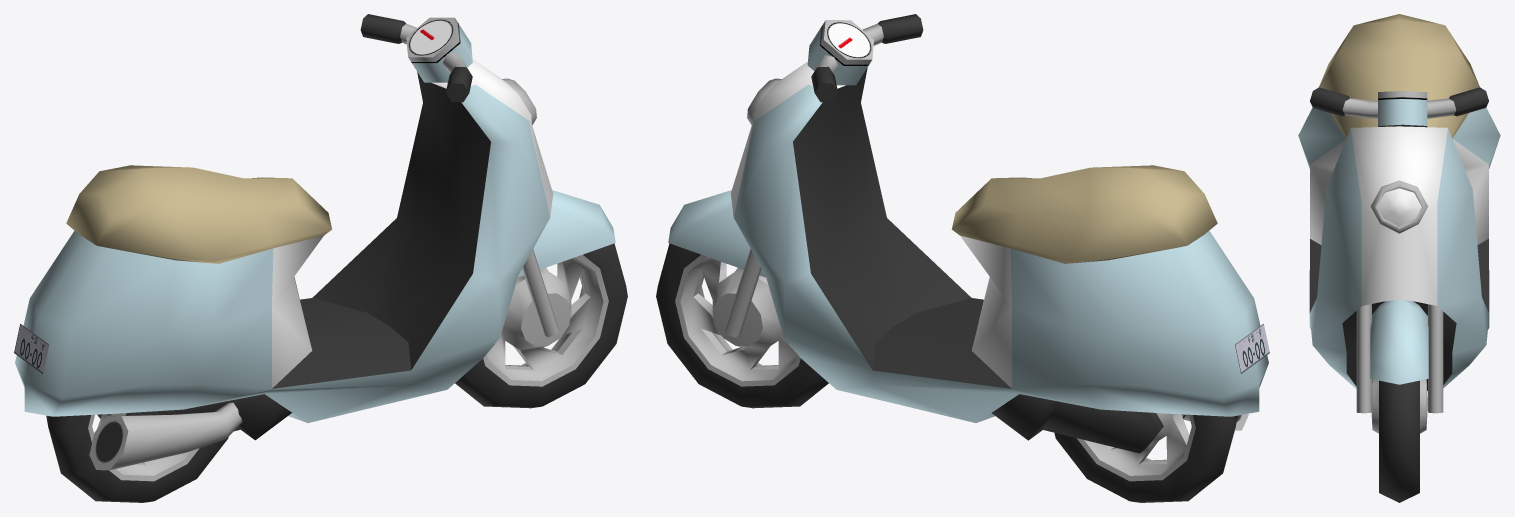
Rendered from bike.FBX.
3 renders of one model, left to right at view 1: azimuth 30°, elevation 25°; view 2: azimuth 150°, elevation 25°; view 3: azimuth 270°, elevation 25°, orthographic. The views are drawn at different scales.
Parts seen in each view (by area): view 1: bike; view 2: bike; view 3: bike.
Part boxes in pixels (x1=…): bike: x1=14, y1=14, x2=627, y2=502; bike: x1=656, y1=14, x2=1269, y2=502; bike: x1=1298, y1=14, x2=1500, y2=502.
Bounding box in the file's own units: 160 × 103 × 51.22.
